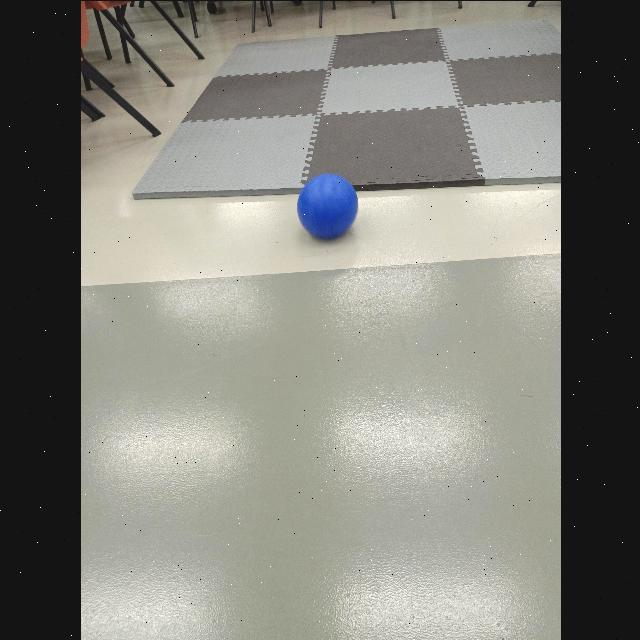B: (297, 174, 357, 240)
